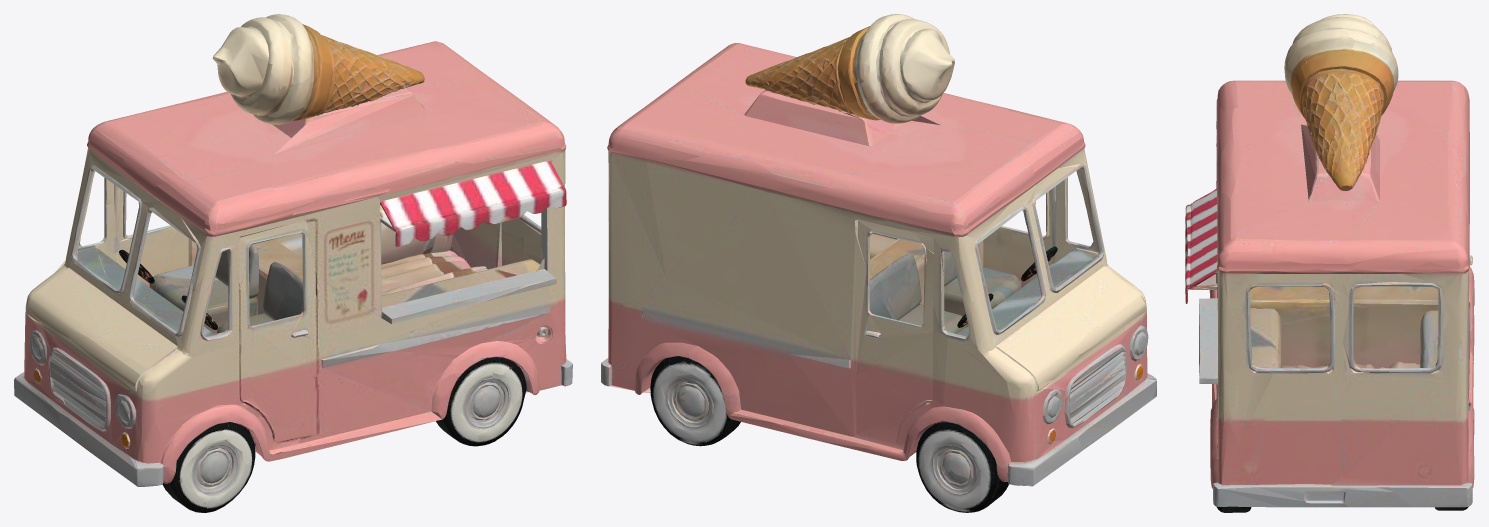
File: icetruck.glb
3 views of the same model, side by side, from view 1: azimuth 30°, elevation 25°; view 2: azimuth 150°, elevation 25°; view 3: azimuth 270°, elevation 25° (orthographic).
Size of the model in its own units: 1.9 by 1.74 by 1.1.
Materials: 1 (1 with a texture image).
